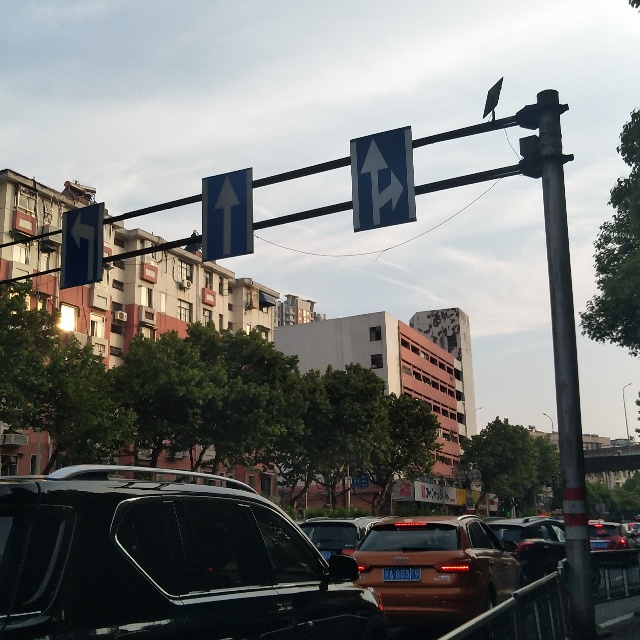left: (57, 213, 106, 286)
straight: (207, 176, 247, 261)
